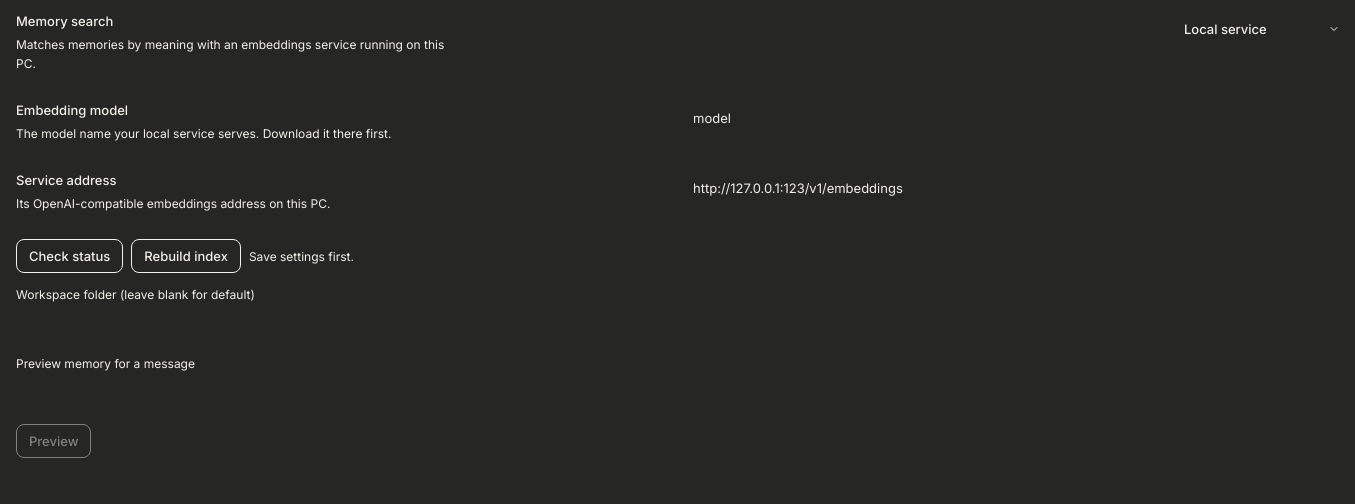
Scenario: MemoryRetrieval › reports rebuild and errors
The width and height of the screenshot is (1355, 504).
Click the button "Rebuild index": (186, 256) [131, 239, 241, 273]
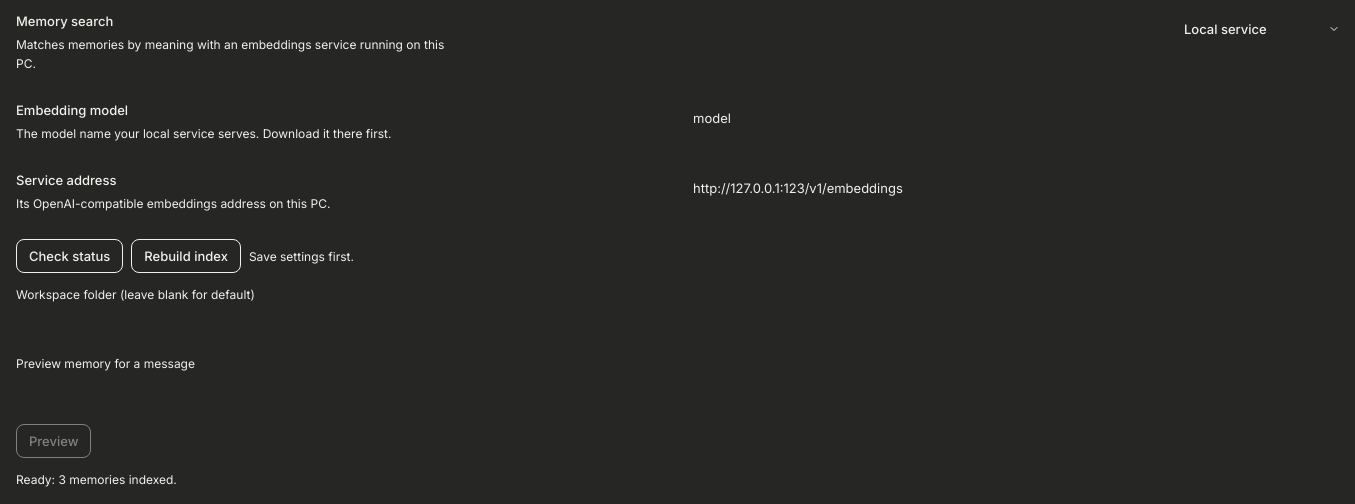
Check: the message shows "3 memories indexed", box [16, 472, 177, 487]
Click the button "Check status": (70, 256) [16, 239, 123, 273]
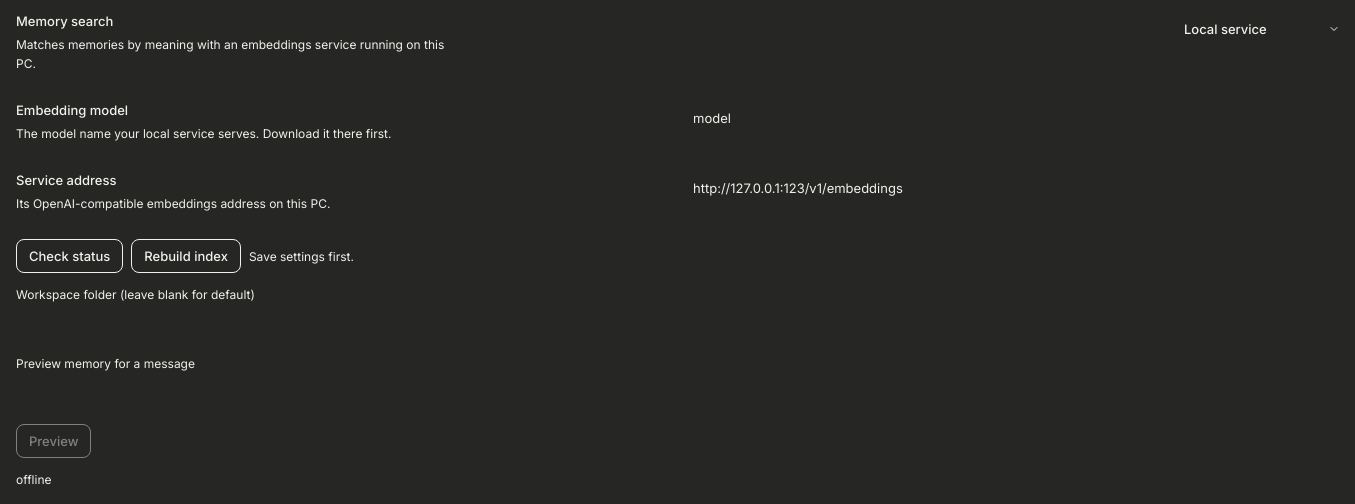
Check: the message reads "offline", box [16, 472, 52, 487]
